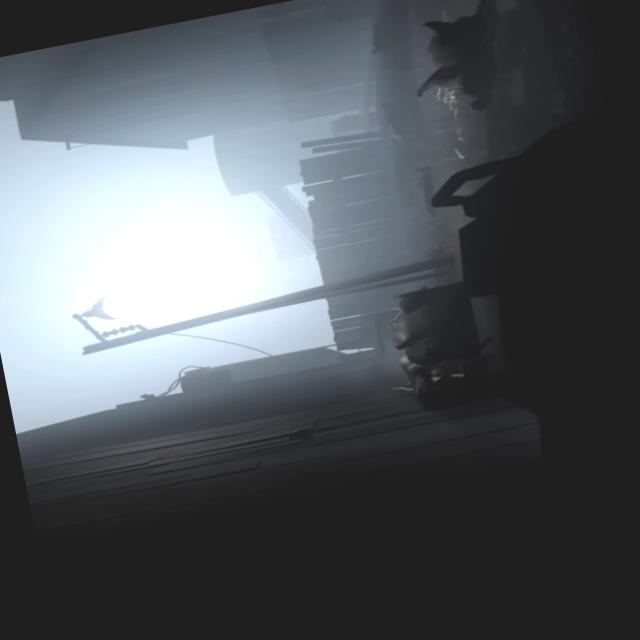boy: (419, 356, 481, 384)
